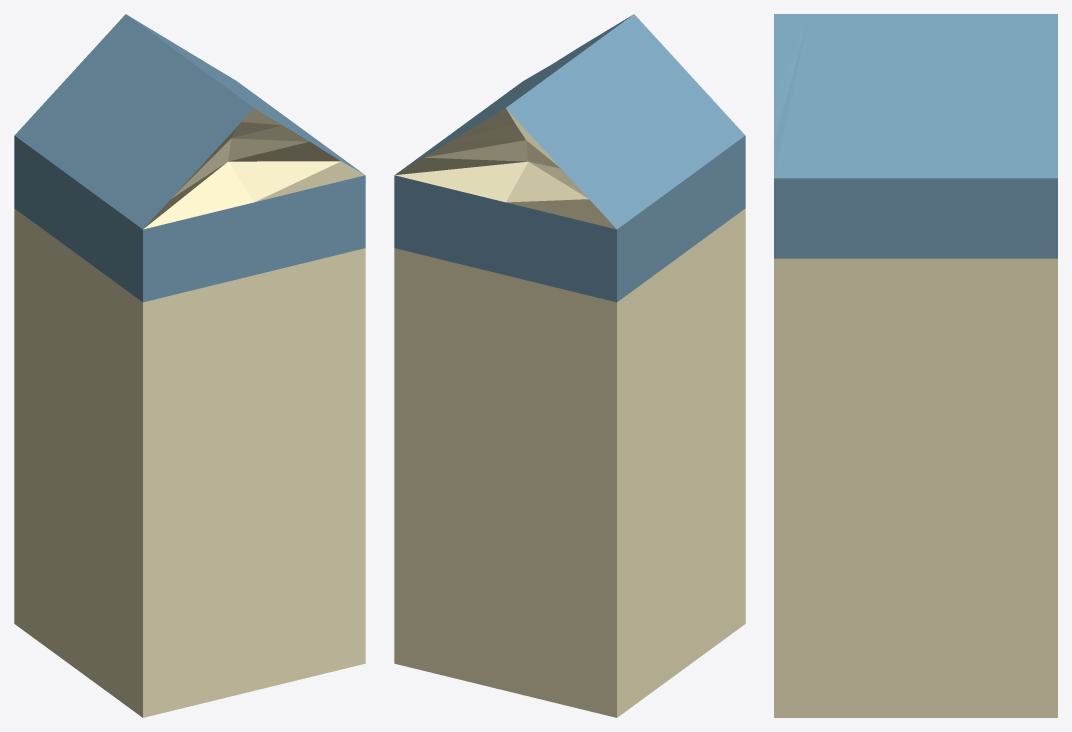
The model's file is lait.fbx.
3 views of the same model, side by side, from view 1: azimuth 30°, elevation 25°; view 2: azimuth 150°, elevation 25°; view 3: azimuth 270°, elevation 25° (orthographic). The views are drawn at different scales.
Visible parts, largest first — view 1: lait; view 2: lait; view 3: lait.
Boxes of the visible parts, x1,y1,x2,y2 form: lait: [14, 14, 365, 717]; lait: [394, 14, 745, 717]; lait: [774, 14, 1057, 717].
Bounding box in the file's own units: 1.6 × 4 × 1.6.
